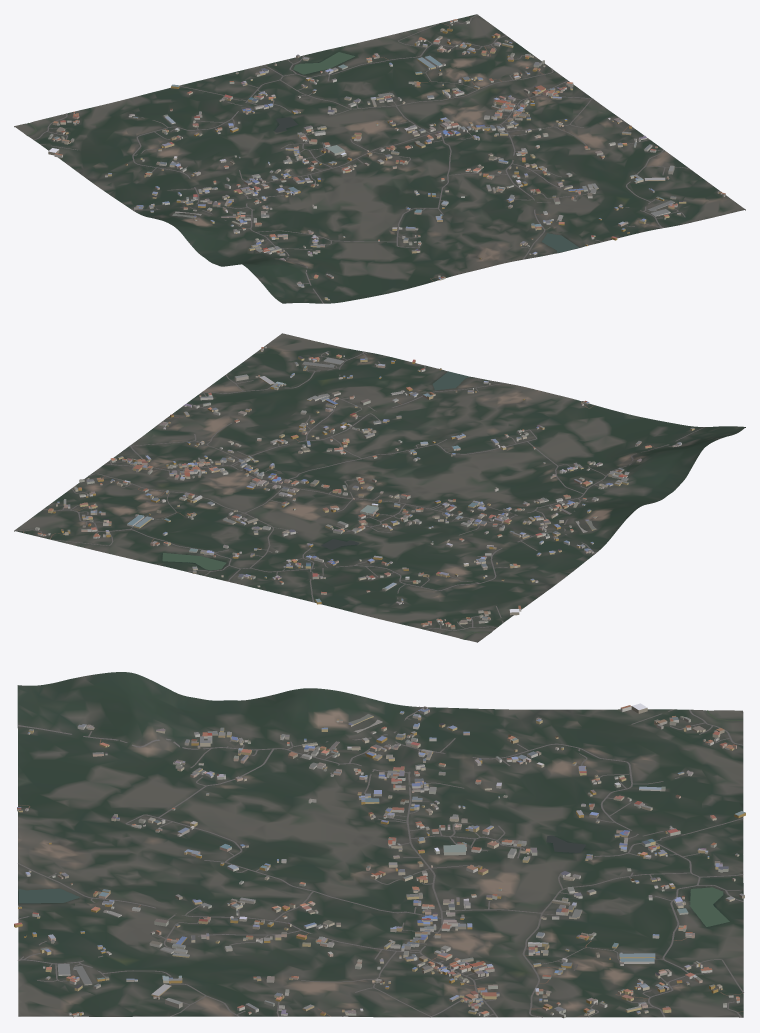
3 renders of one model, top to bottom at view 1: azimuth 30°, elevation 25°; view 2: azimuth 150°, elevation 25°; view 3: azimuth 270°, elevation 25°, orthographic. The views are drawn at different scales.
Visible parts, largest first — view 1: ground, buildings, roads, water; view 2: ground, buildings, roads, water; view 3: ground, buildings, roads, water.
Part boxes in pixels (x1,y1,x2,y2): ground: (14,14,745,303); buildings: (48,19,725,300); roads: (33,14,689,303); water: (27,52,578,252); ground: (14,333,745,642); buildings: (35,346,694,629); roads: (15,351,704,630); water: (162,371,490,639); ground: (17,672,743,1017); buildings: (14,703,745,1018); roads: (18,706,743,1017); water: (18,710,742,926).
Bounding box in the file's own units: 1412 × 88.9 × 1415.
